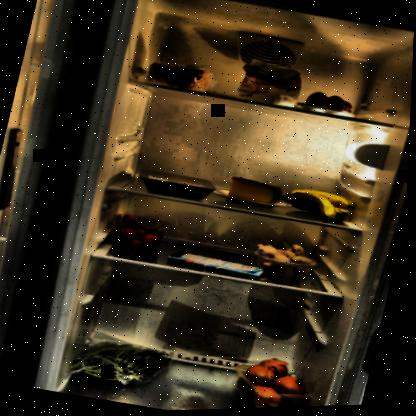banana: (280, 182, 362, 231)
cheese: (224, 174, 288, 211)
chocolate: (165, 246, 271, 285)
eggs: (302, 91, 359, 122)
green_beans: (68, 328, 182, 398)
mushrooms: (251, 236, 324, 282)
onion: (235, 350, 320, 409)
strawberries: (111, 211, 171, 255)
